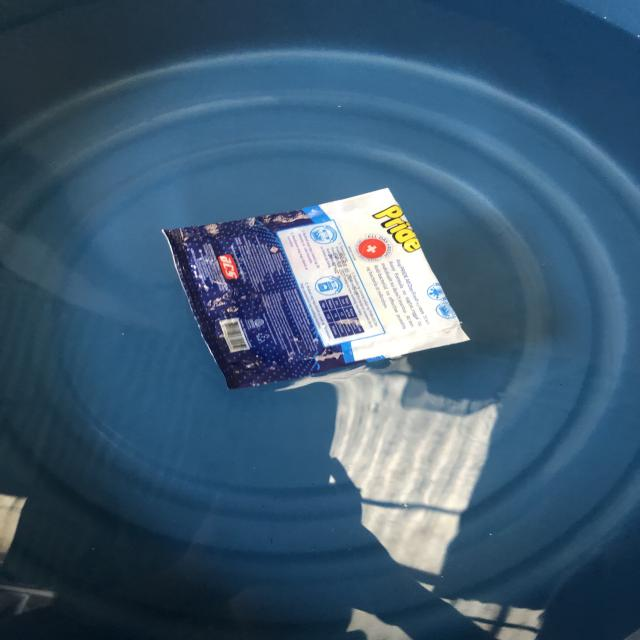Plastic Wrapper: (140, 176, 503, 410)
